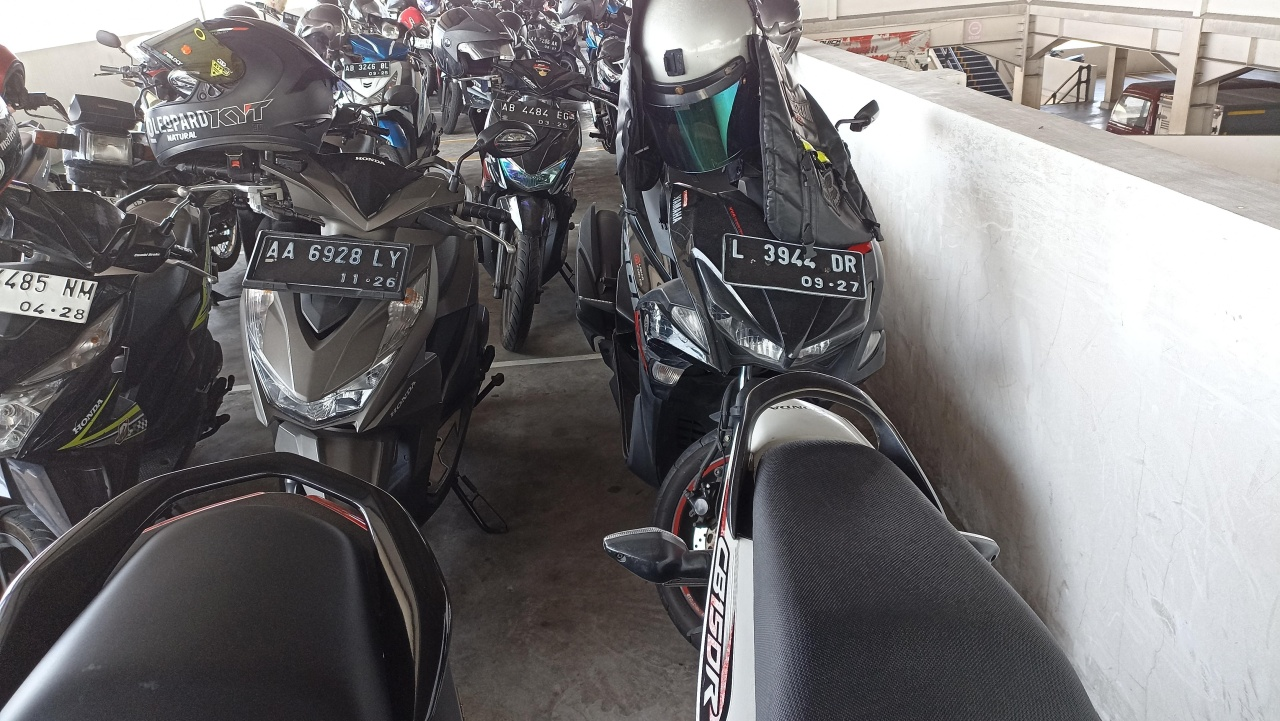plate: (246, 231, 411, 294), (722, 233, 868, 300), (501, 102, 569, 130), (344, 61, 390, 79)
